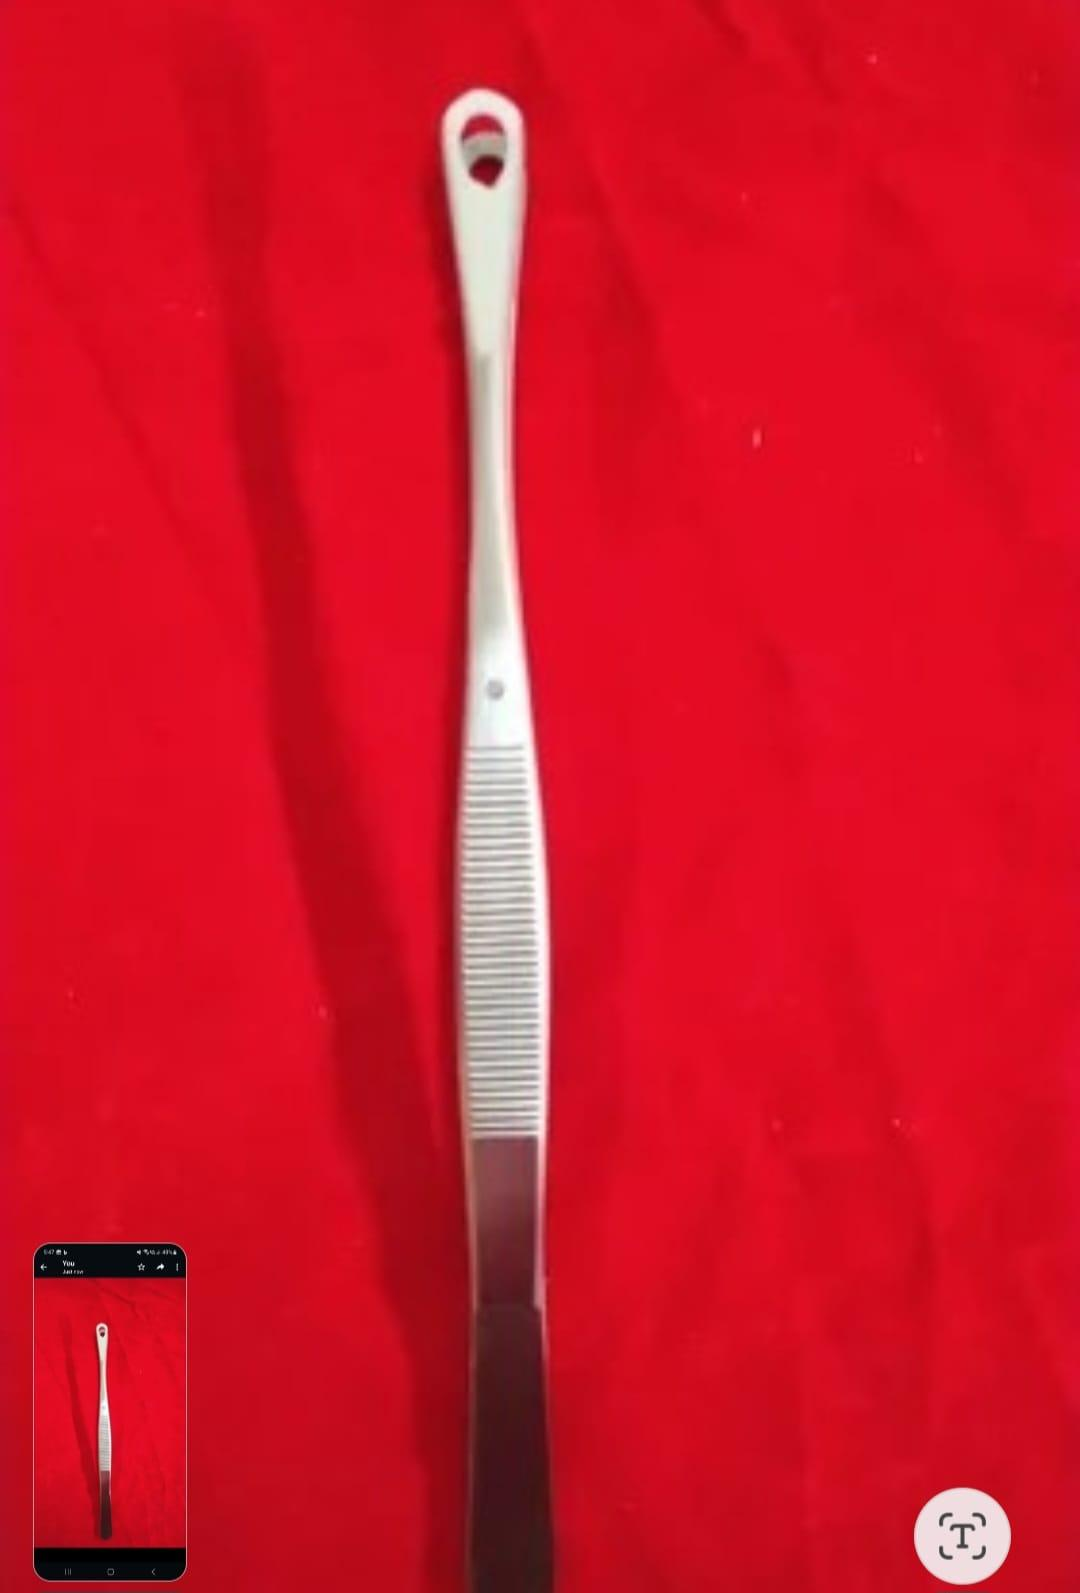Eye Intestinal Forceps: (422, 80, 582, 1593)
